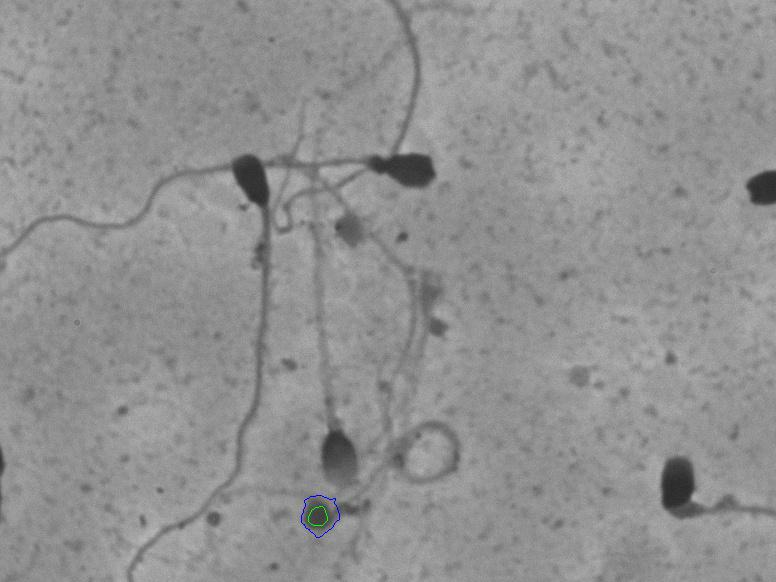Abnormal: (189, 137, 278, 529), (613, 431, 765, 556), (301, 138, 449, 223)
Normal: (298, 252, 366, 499)
